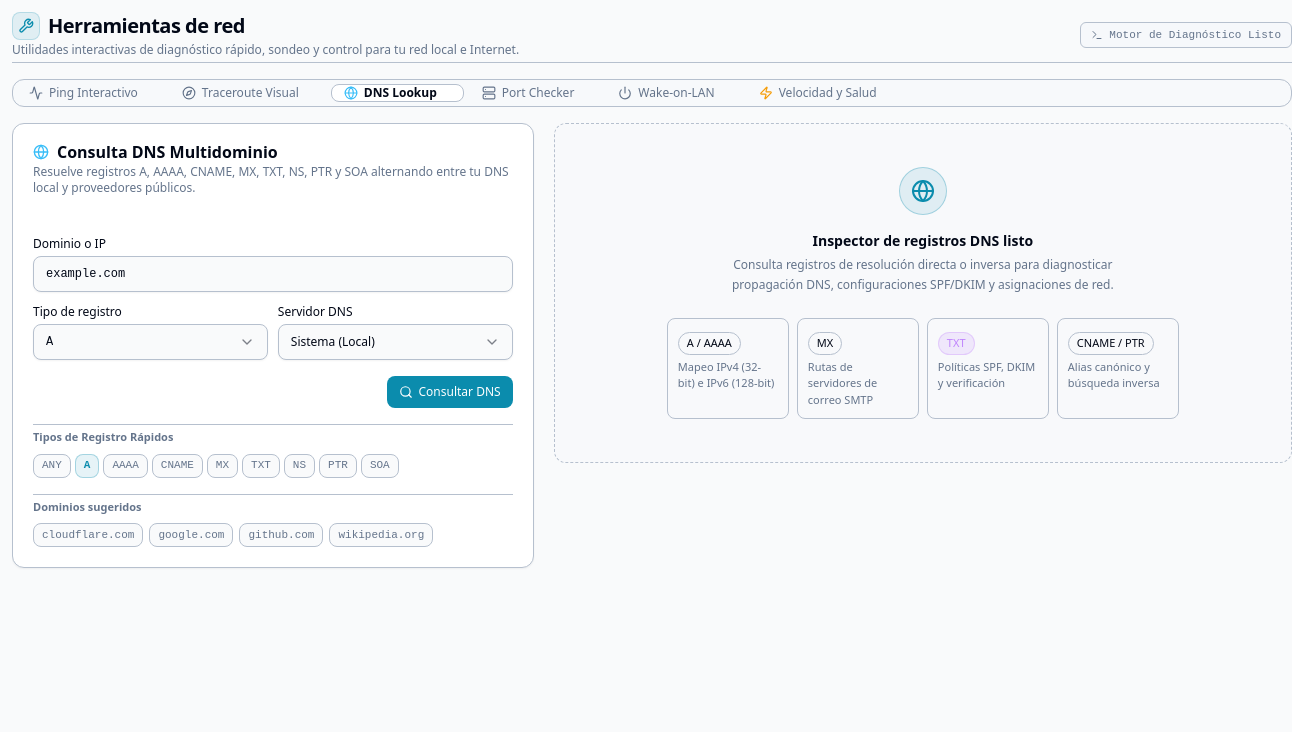
Tools Screen › executes DNS lookup and displays resolved records
The width and height of the screenshot is (1292, 732).
Click the button "Consultar DNS".
click(450, 392)  # box [386,376,513,408]
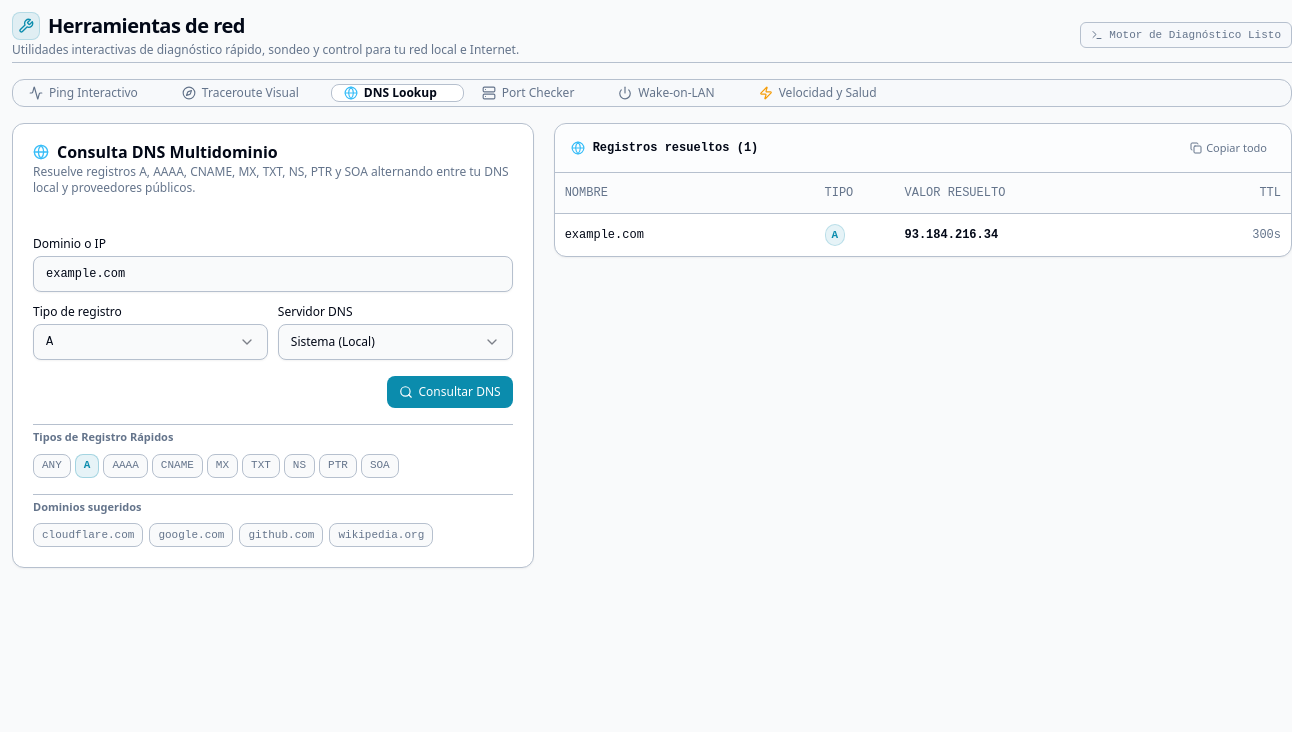
Now the text "93.184.216.34" is shown, box [894,213,1211,256]
